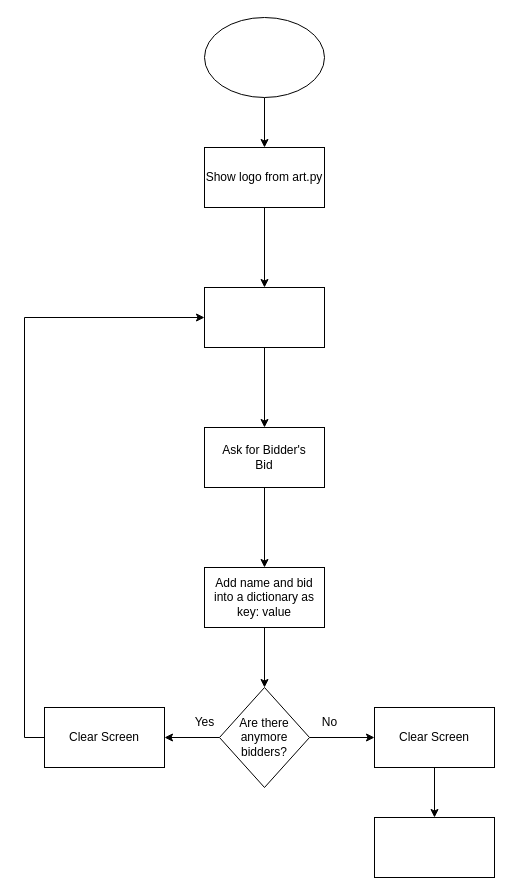
Image size: 512x895. Some labels were removed from this diagram. The shapes that lost their labels are listed below. From the top down, each one's centre as x and y in pixels, then its label:
At [264,57]: "START".
At [264,317]: "Ask for Bidder's Name".
At [434,847]: "Calculate the highest Bidder.".
